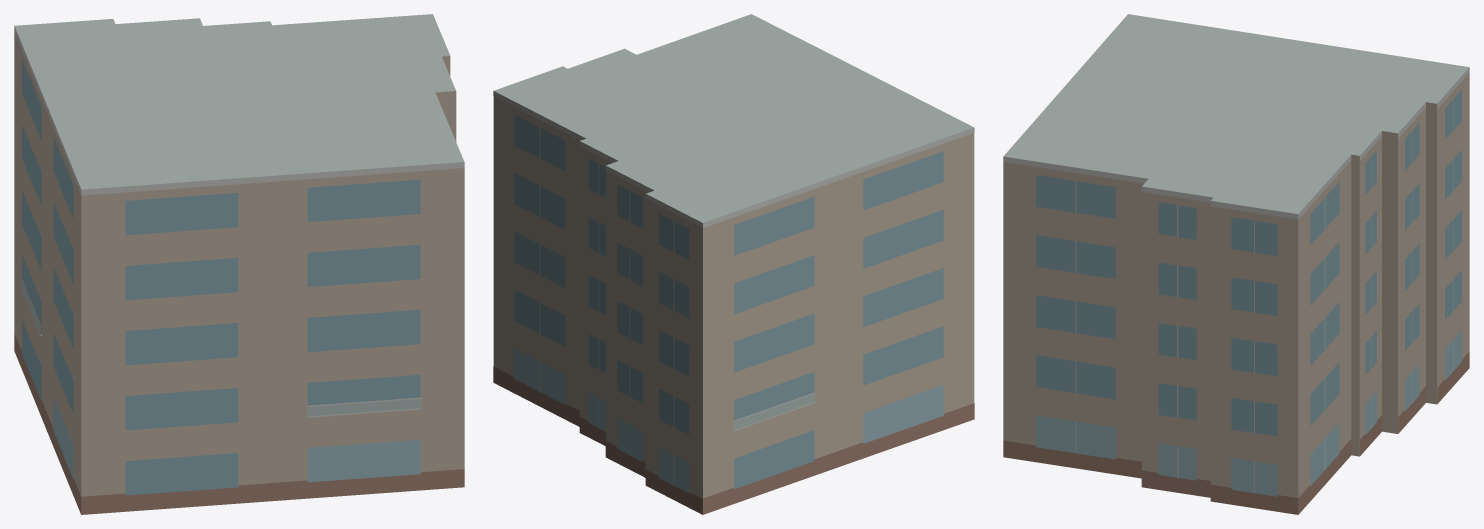
File: survey-upis-32681537.glb
3 views of the same model, side by side, from view 1: azimuth 30°, elevation 25°; view 2: azimuth 150°, elevation 25°; view 3: azimuth 270°, elevation 25° (orthographic). The views are drawn at different scales.
Parts seen in each view (by area): view 1: survey-upis-32681537.tmp; view 2: survey-upis-32681537.tmp; view 3: survey-upis-32681537.tmp.
Boxes of the visible parts, <box> form: survey-upis-32681537.tmp: <box>14,14,464,514</box>; survey-upis-32681537.tmp: <box>493,14,974,514</box>; survey-upis-32681537.tmp: <box>1003,14,1469,514</box>.
Size of the model in its own units: 19.14 by 13.4 by 18.84.
